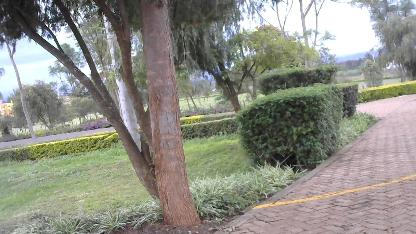tree: (2, 0, 165, 213), (136, 0, 207, 227)
